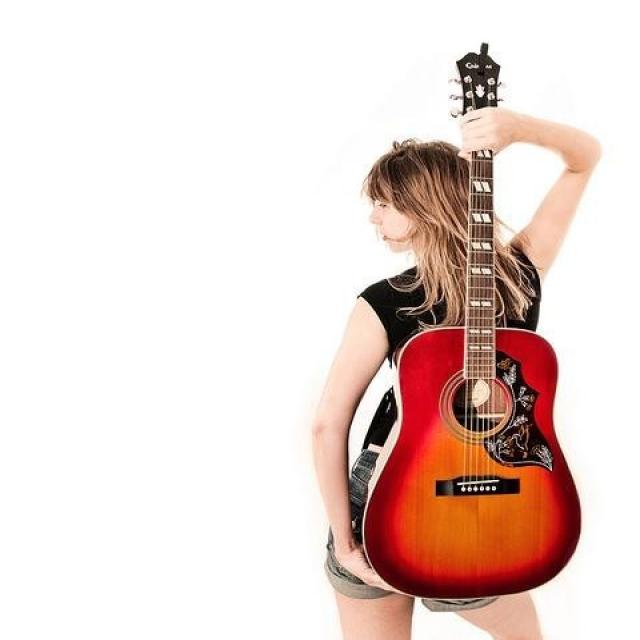guitar: (356, 48, 584, 601)
